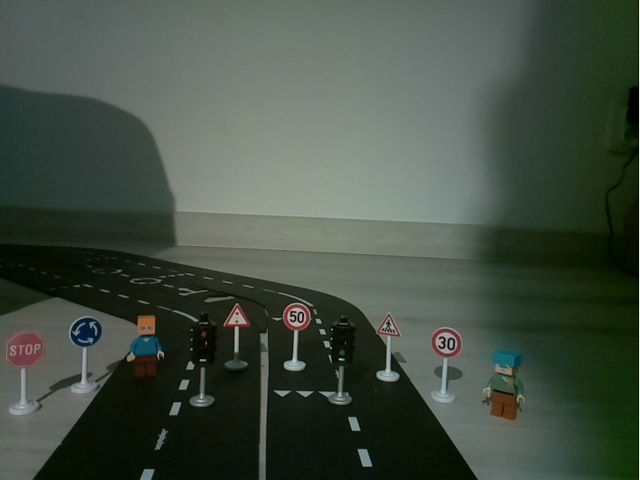green light: (326, 313, 358, 409)
limit 30: (428, 324, 461, 406)
limit 50: (279, 299, 314, 375)
pedestrian sign: (373, 309, 404, 385)
person: (121, 312, 168, 383)
red light: (188, 312, 219, 412)
round: (65, 315, 107, 395)
second person: (478, 342, 532, 427)
stop: (4, 329, 47, 421)
traffic light sign: (223, 299, 252, 376)
